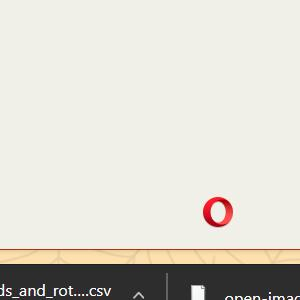opera: (203, 197, 233, 227)
